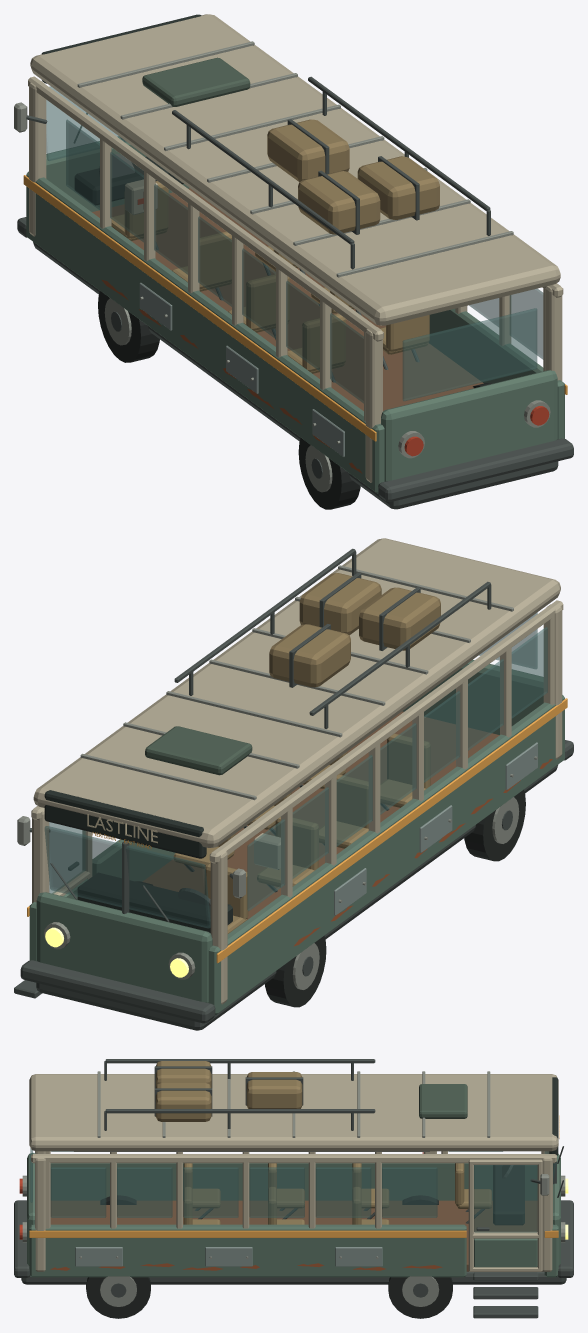
File: lastline_coach.glb
3 renders of one model, top to bottom at view 1: azimuth 30°, elevation 25°; view 2: azimuth 150°, elevation 25°; view 3: azimuth 270°, elevation 25°, orthographic. The views are drawn at different scales.
Visible parts, largest first — view 1: Body_coach, Roof_coach, Wheel_RL, Wheel_FL; view 2: Body_coach, Roof_coach, Door_passenger, Wheel_FL, Wheel_RL; view 3: Body_coach, Roof_coach, Door_passenger, Wheel_RR, Wheel_FR.
Boxes of the visible parts, bbox=[...] form: Body_coach: bbox=[14, 14, 573, 509]; Roof_coach: bbox=[30, 14, 560, 325]; Wheel_RL: bbox=[298, 438, 360, 509]; Wheel_FL: bbox=[98, 291, 159, 362]; Body_coach: bbox=[14, 600, 573, 1030]; Roof_coach: bbox=[33, 538, 560, 847]; Door_passenger: bbox=[49, 822, 92, 899]; Wheel_FL: bbox=[265, 936, 326, 1007]; Wheel_RL: bbox=[464, 790, 525, 861]; Body_coach: bbox=[14, 1077, 573, 1318]; Roof_coach: bbox=[29, 1059, 558, 1151]; Door_passenger: bbox=[468, 1159, 542, 1271]; Wheel_RR: bbox=[86, 1276, 150, 1318]; Wheel_FR: bbox=[388, 1276, 452, 1318].
Bounding box in the file's own units: 3.17 × 3.52 × 8.62.
